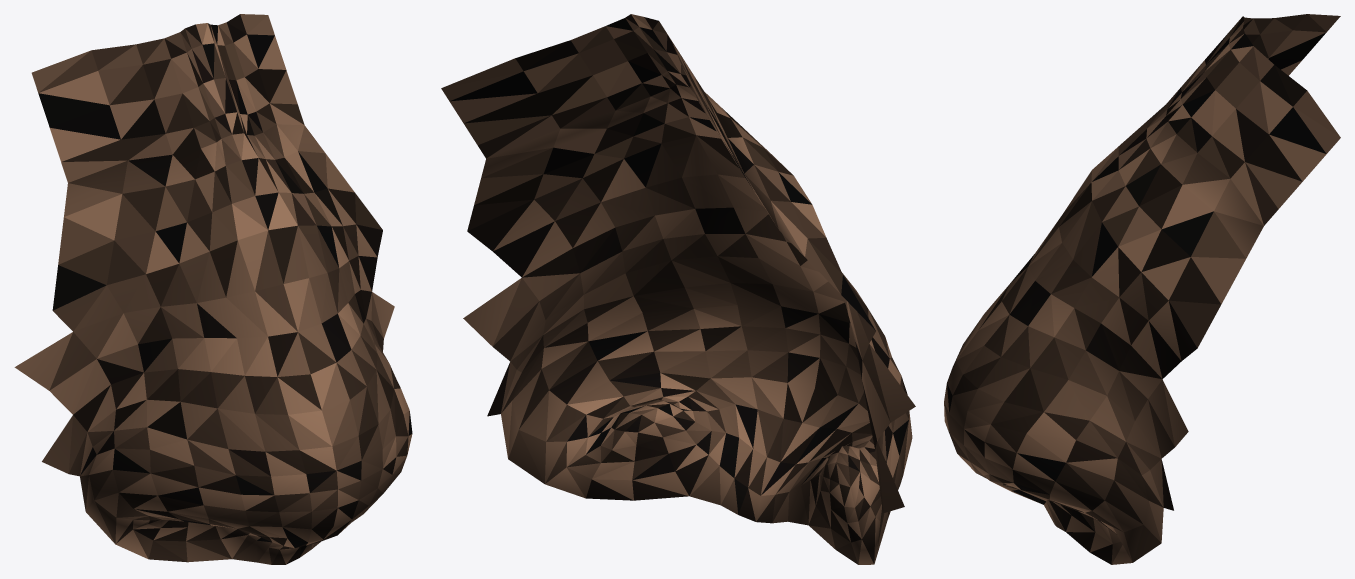
Rendered from nose.fbx.
3 renders of one model, left to right at view 1: azimuth 30°, elevation 25°; view 2: azimuth 150°, elevation 25°; view 3: azimuth 270°, elevation 25°, orthographic. The views are drawn at different scales.
Parts seen in each view (by area): view 1: male_muscle_13290Mesh; view 2: male_muscle_13290Mesh; view 3: male_muscle_13290Mesh.
Boxes of the visible parts, x1=… form: male_muscle_13290Mesh: x1=14, y1=14, x2=412, y2=564; male_muscle_13290Mesh: x1=441, y1=14, x2=915, y2=564; male_muscle_13290Mesh: x1=944, y1=14, x2=1340, y2=564.
Size of the model in its own units: 42.81 by 52 by 37.4.
